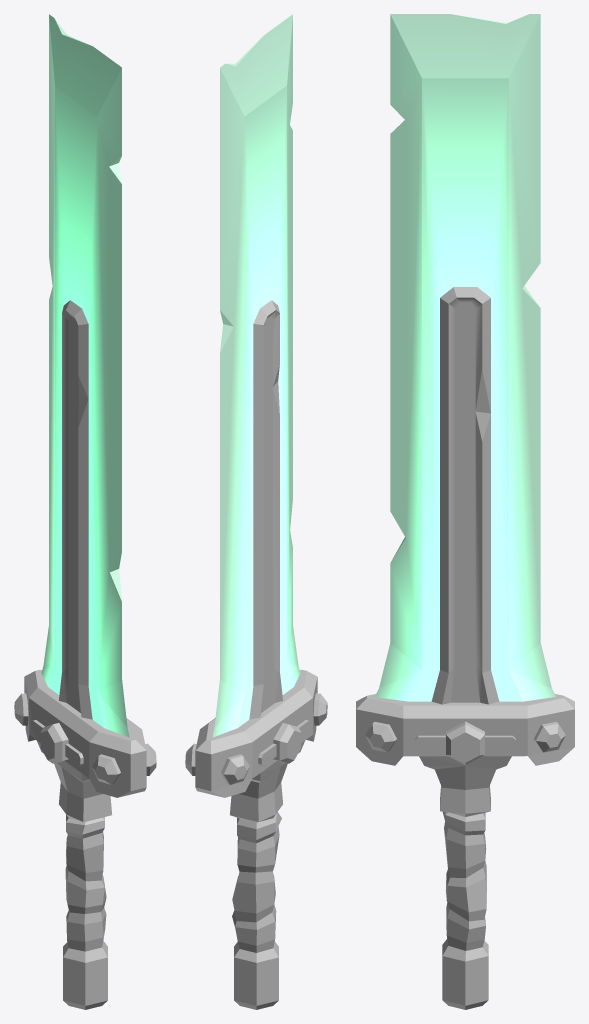
Rendered from SM_Wep_Sword_03.fbx.
3 renders of one model, left to right at view 1: azimuth 30°, elevation 25°; view 2: azimuth 150°, elevation 25°; view 3: azimuth 270°, elevation 25°, orthographic. The views are drawn at different scales.
Visible parts, largest first — view 1: SM_Wep_Sword_03; view 2: SM_Wep_Sword_03; view 3: SM_Wep_Sword_03.
Boxes of the visible parts, x1=… form: SM_Wep_Sword_03: x1=14, y1=14, x2=156, y2=1009; SM_Wep_Sword_03: x1=185, y1=14, x2=327, y2=1009; SM_Wep_Sword_03: x1=356, y1=14, x2=574, y2=1009.
Bounding box in the file's own units: 10.87 × 132 × 26.43.
